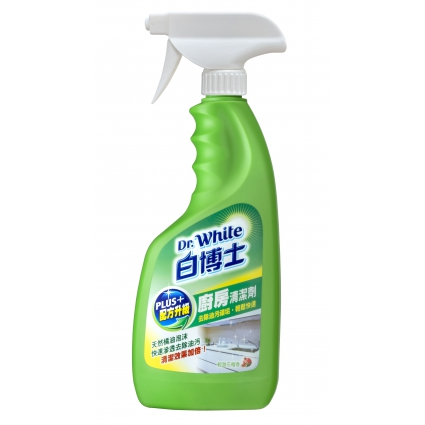cleaner: (131, 10, 289, 412)
